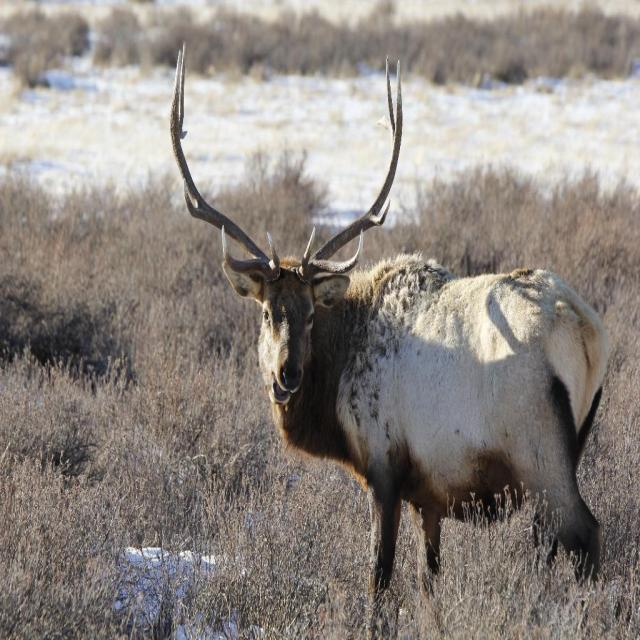Deer: (171, 37, 611, 639)
